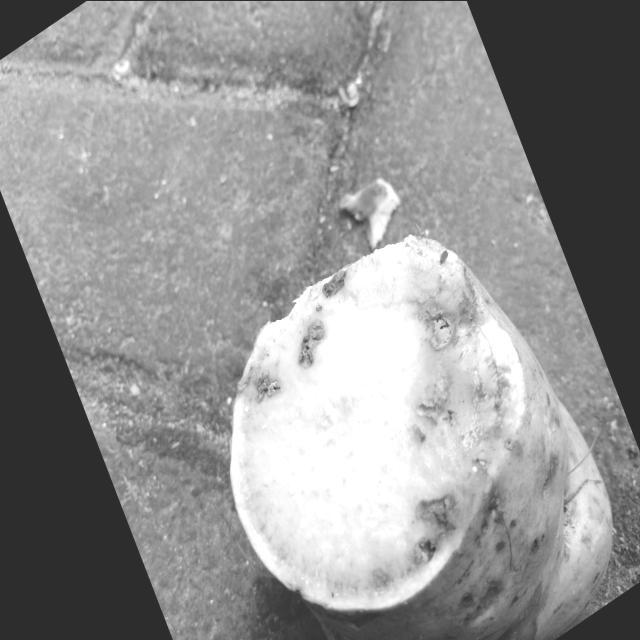Sick Sweet Potato_Tuber Rot: (231, 237, 525, 610)
